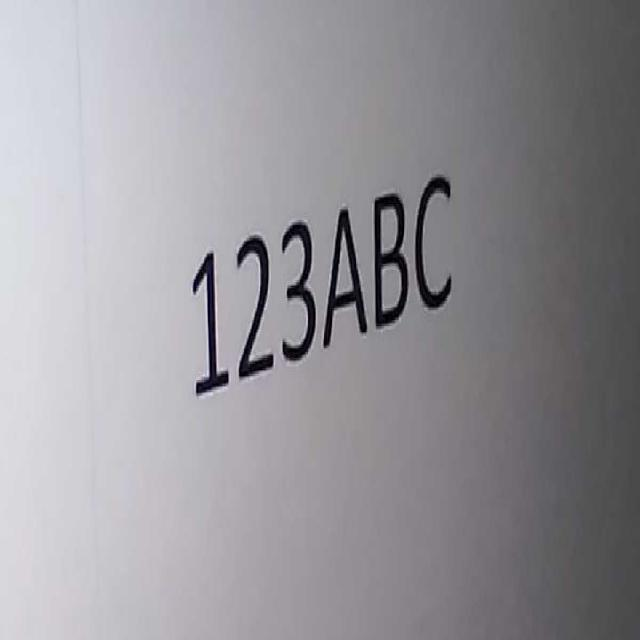license_plate: (172, 132, 470, 407)
